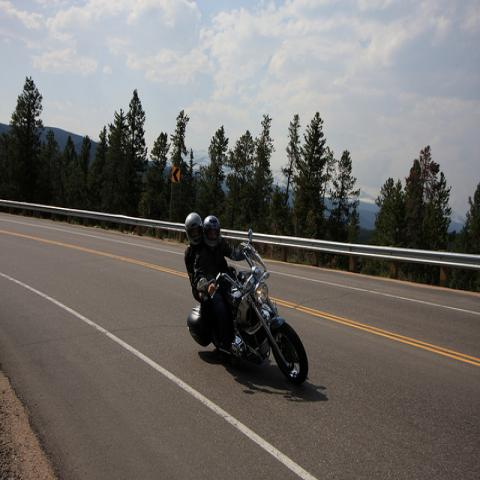motorcycle: (185, 222, 314, 386)
